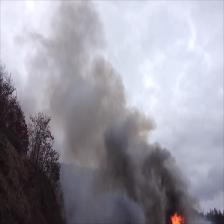fire: (168, 212, 184, 224)
smoke: (54, 1, 108, 172), (108, 94, 150, 224), (151, 145, 184, 210)
